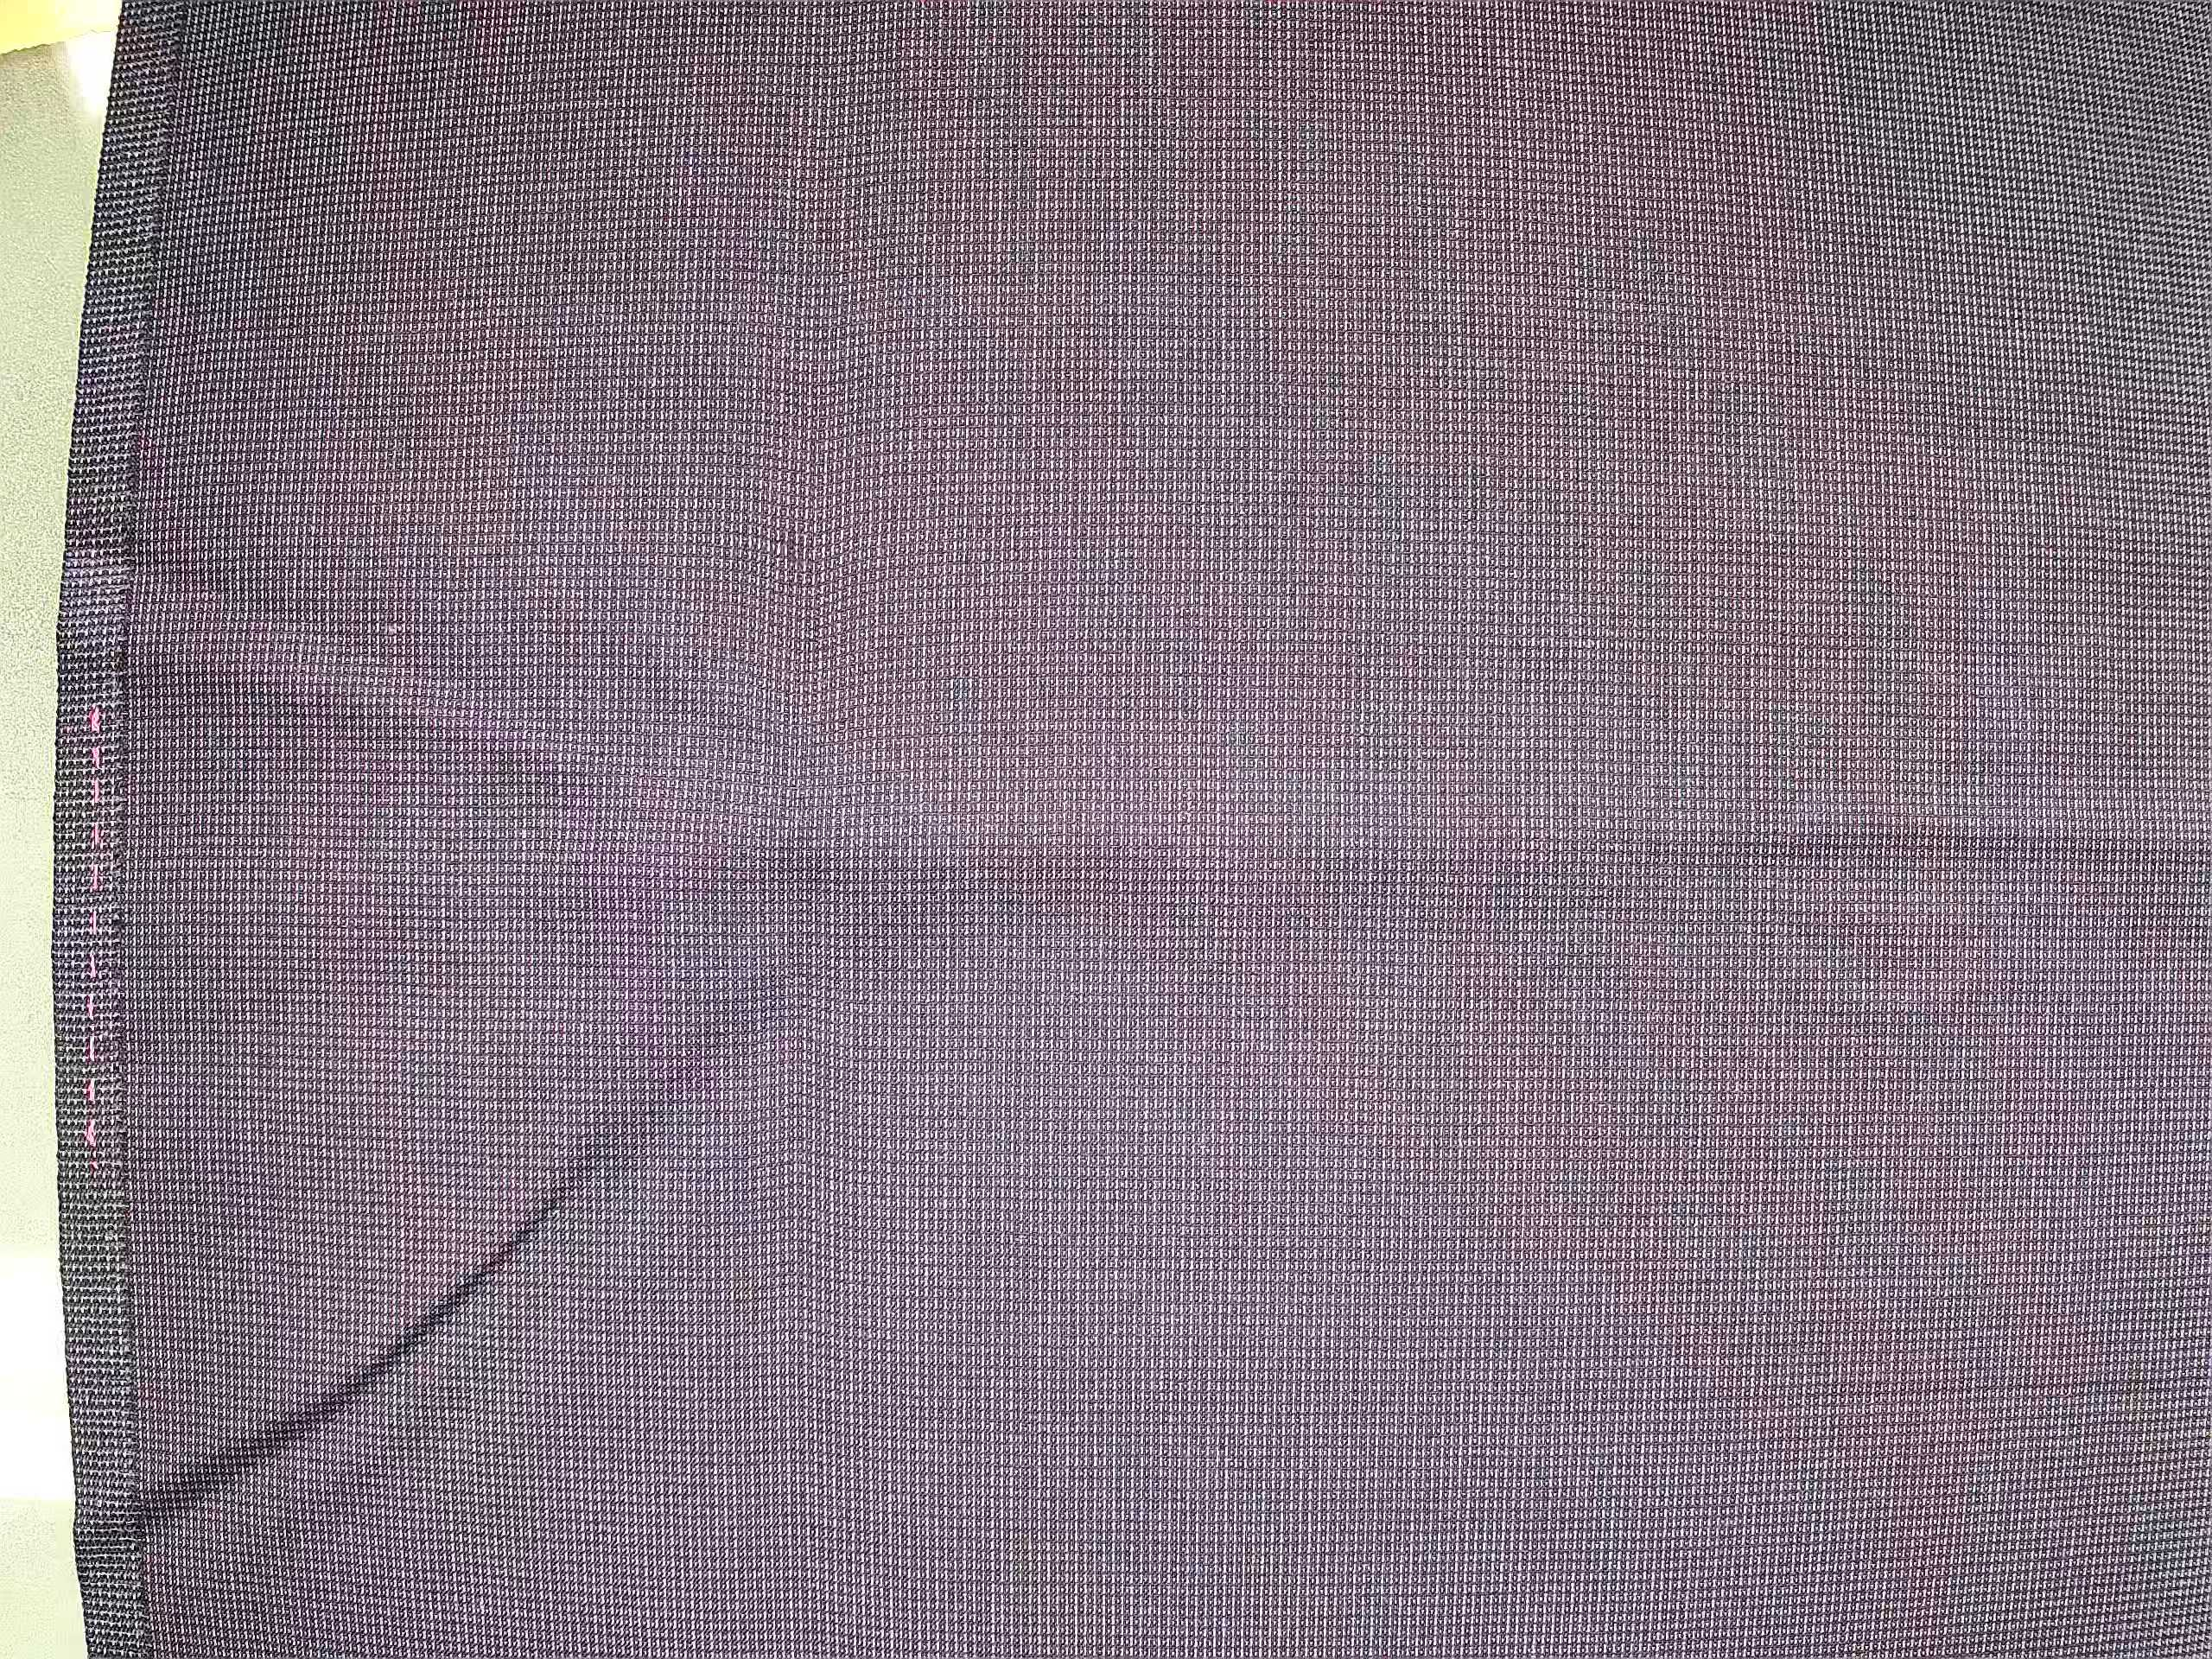knots: (749, 500, 838, 592)
